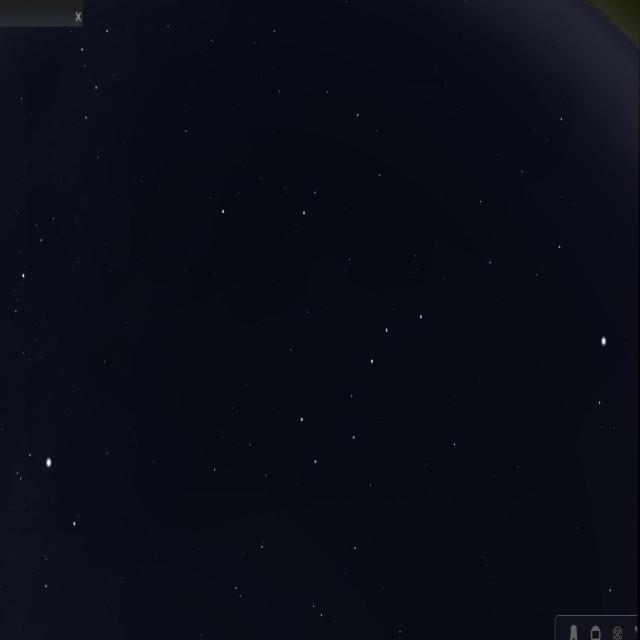cassiopeia: (64, 17, 124, 185)
ursa_major: (298, 303, 424, 467)
